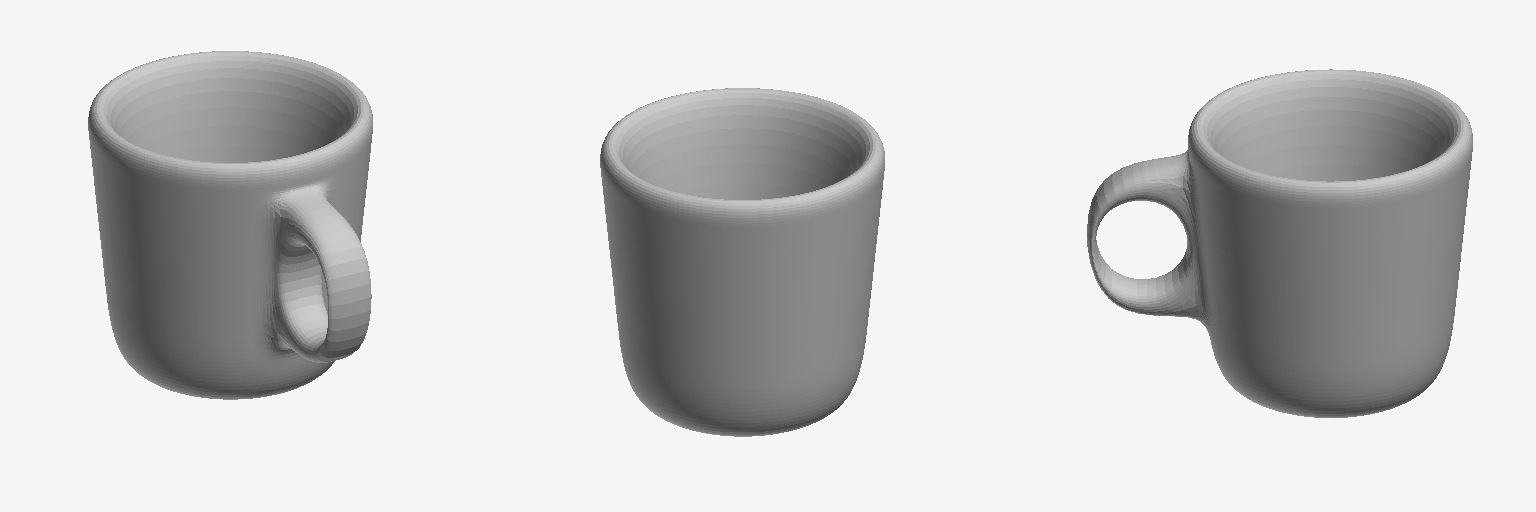
Rendered from cup.obj.
3 views of the same model, side by side, from view 1: azimuth 30°, elevation 25°; view 2: azimuth 150°, elevation 25°; view 3: azimuth 270°, elevation 25° (orthographic).
Parts seen in each view (by area): view 1: Circle; view 2: Circle; view 3: Circle.
Part boxes in pixels (x1,y1,x2,y2): Circle: (88, 51, 372, 399); Circle: (600, 88, 884, 436); Circle: (1087, 69, 1472, 417).
Bounding box in the file's own units: 3.32 × 3.34 × 4.5.